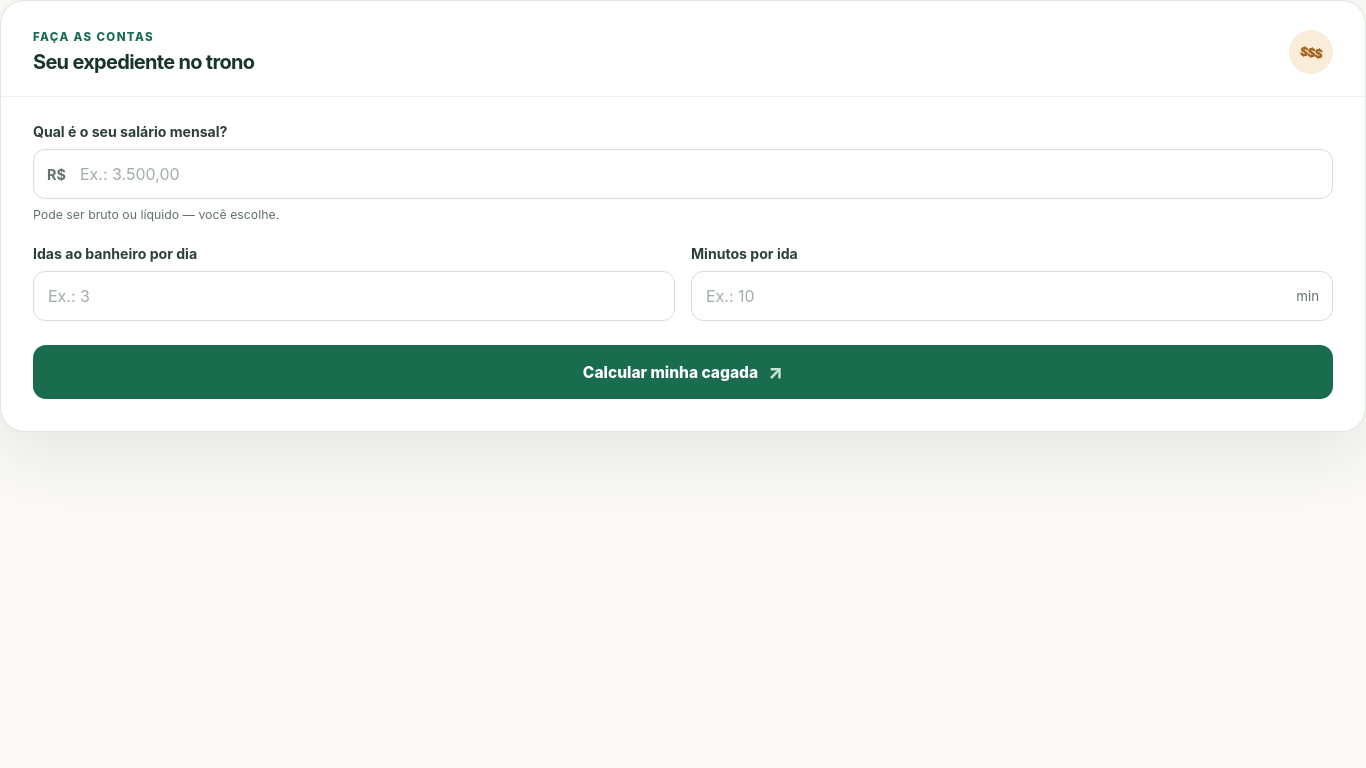
Test: Calculator › calculates and displays the three periods
The image size is (1366, 768).
Step 1. Type "3520" into the number field labelled "Qual é o seu salário mensal?" → [683, 174], box [33,149,1333,199]
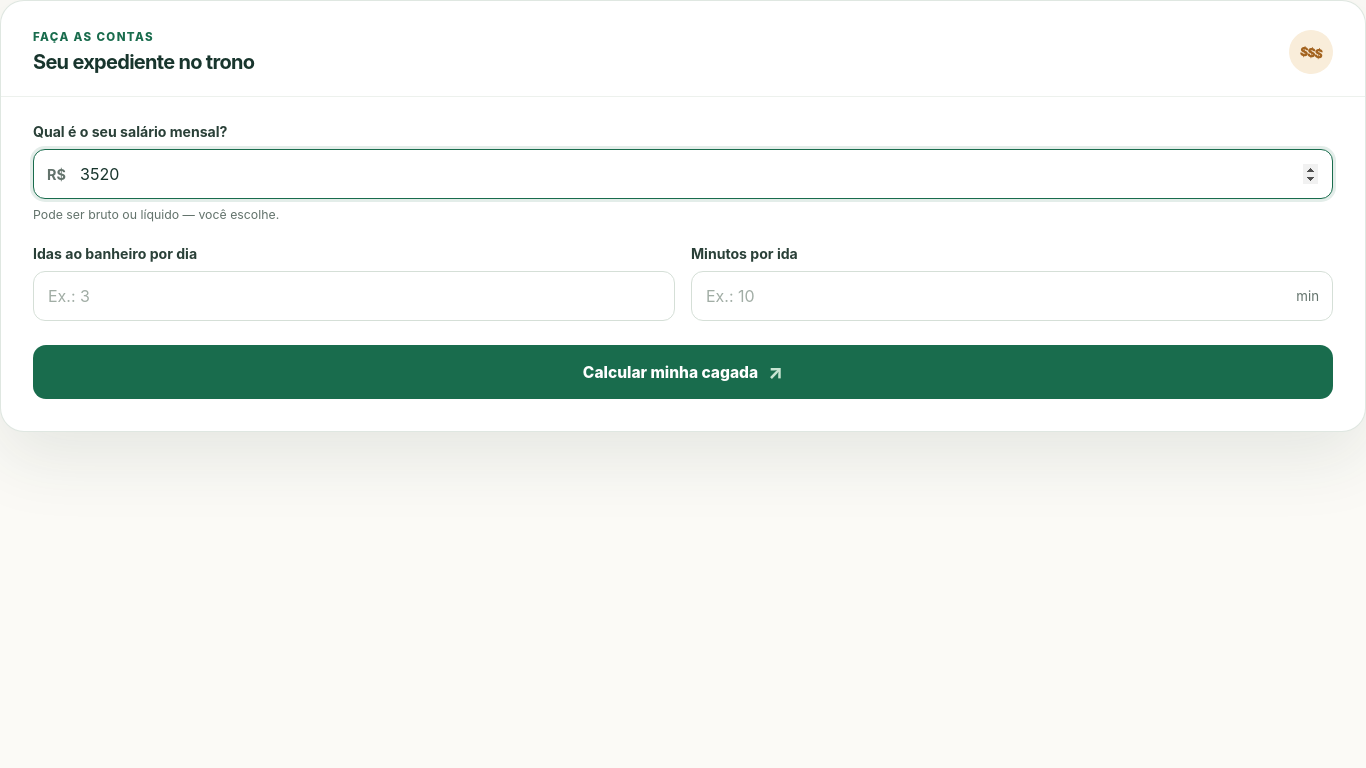
Step 2. Type "2" into the number field labelled "Idas ao banheiro por dia" → [354, 296], box [33,271,675,321]
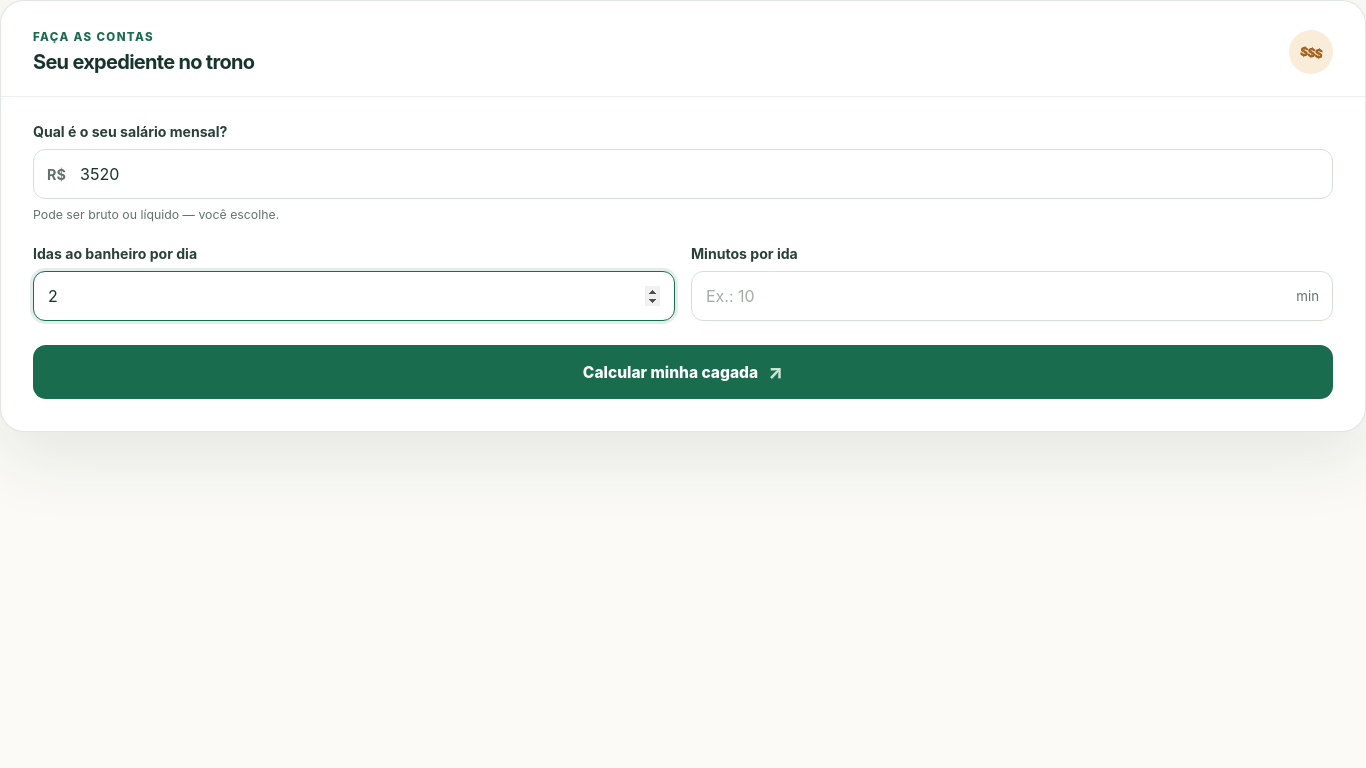
Step 3. Type "15" into the number field labelled "Minutos por ida" → [1012, 296], box [691,271,1333,321]
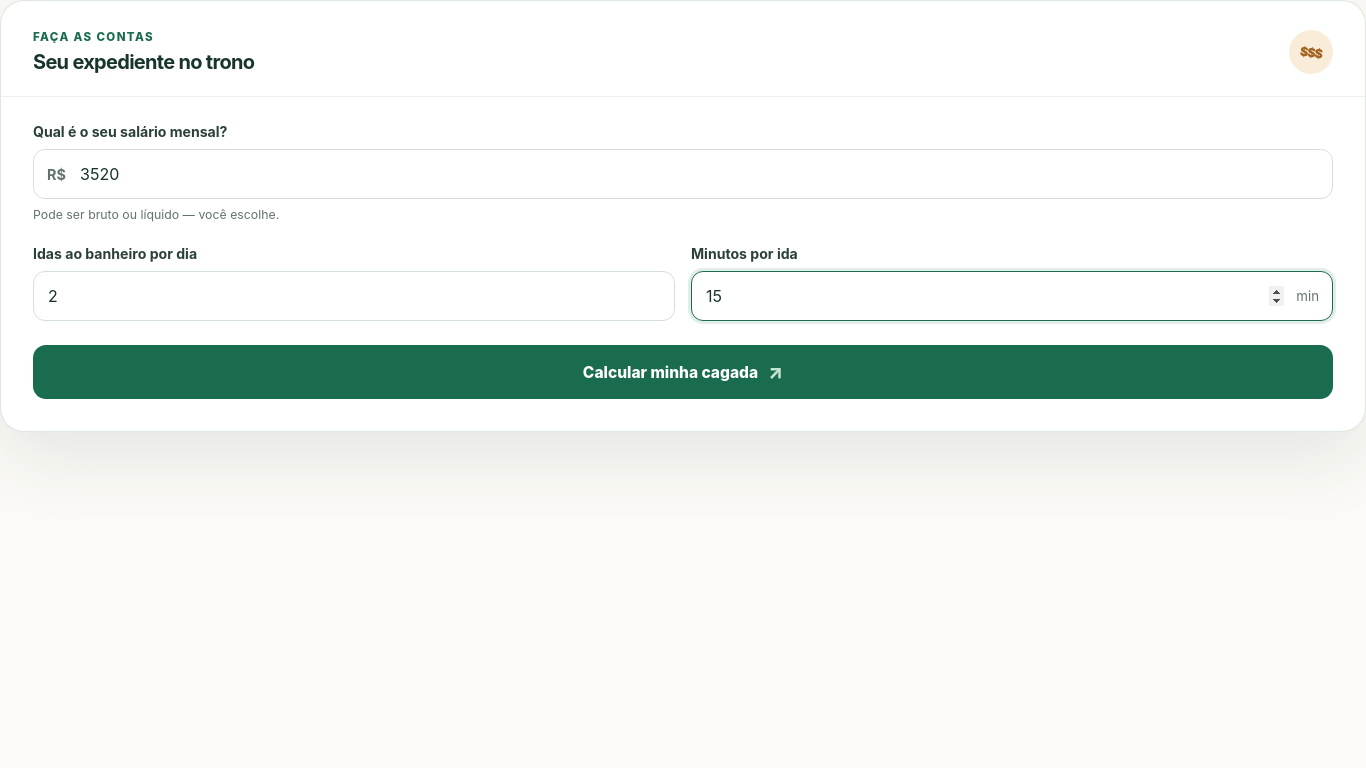
Step 4. Click the button "Calcular minha cagada ↗" → [683, 372], box [33,345,1333,399]
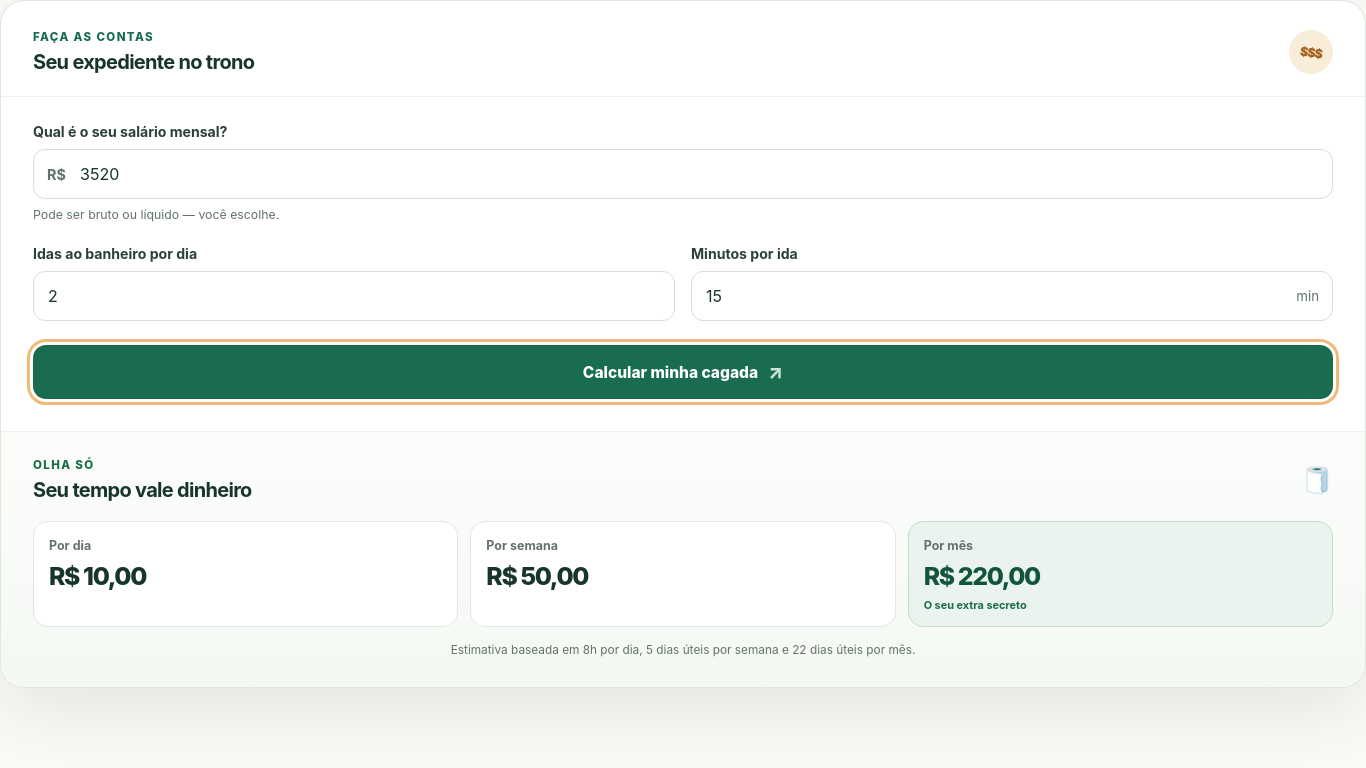
Expected: the text with test id "result-por-dia" shows "10,00", [49,562,146,592]
Expected: the text with test id "result-por-semana" shows "50,00", [486,562,588,592]
Expected: the text with test id "result-por-mês" shows "220,00", [924,562,1040,592]
